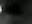person: (1, 5, 4, 16)
